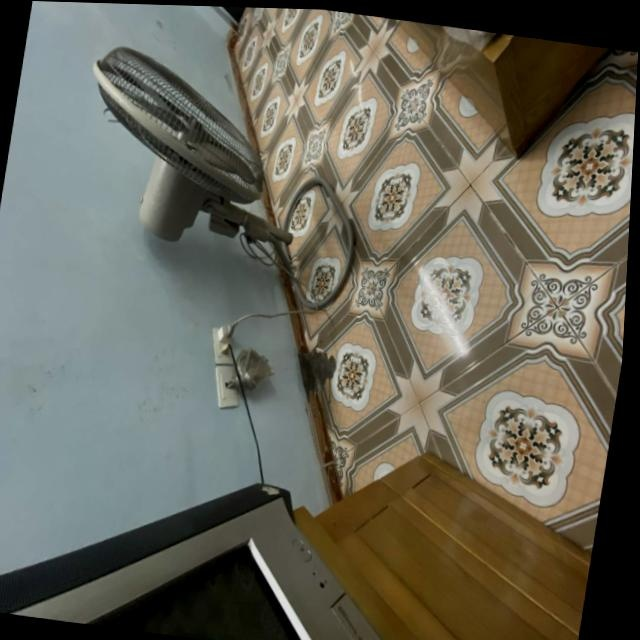outlet: (209, 362, 244, 410), (206, 322, 241, 366)
